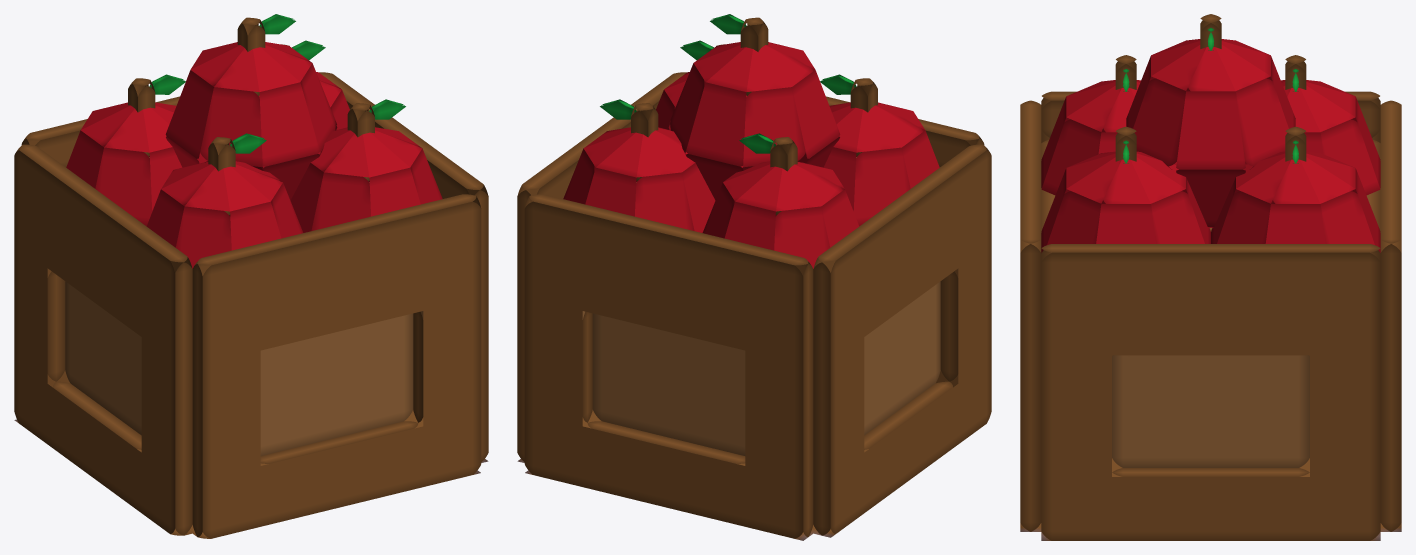
The model's file is Delivery 3.fbx.
3 renders of one model, left to right at view 1: azimuth 30°, elevation 25°; view 2: azimuth 150°, elevation 25°; view 3: azimuth 270°, elevation 25°, orthographic. The views are drawn at different scales.
Parts seen in each view (by area): view 1: cuboid, sphere_4, sphere_2, sphere_3, sphere_1, cuboid_5, cuboid_4, cuboid_3, cuboid_2, sphere; view 2: cuboid, sphere_4, sphere_1, sphere, sphere_2, cuboid_5, cuboid_1, cuboid_2, cuboid_3, sphere_3; view 3: cuboid, sphere_4, sphere_3, sphere, sphere_1, sphere_2, cuboid_5, cuboid_1, cuboid_4, cuboid_2, cuboid_3.
Part boxes in pixels (box(x1,y1,x2,y2)): cuboid: box(14, 72, 488, 538); sphere_4: box(165, 42, 337, 216); sphere_2: box(146, 161, 303, 268); sphere_3: box(290, 127, 442, 232); sphere_1: box(66, 102, 207, 226); cuboid_5: box(237, 14, 295, 95); cuboid_4: box(347, 99, 405, 181); cuboid_3: box(208, 133, 266, 215); cuboid_2: box(128, 74, 185, 156); sphere: box(259, 72, 349, 167); cuboid: box(517, 72, 991, 540); sphere_4: box(668, 42, 840, 216); sphere_1: box(702, 161, 859, 268); sphere: box(563, 127, 715, 232); sphere_2: box(798, 102, 939, 226); cuboid_5: box(710, 14, 768, 95); cuboid_1: box(600, 99, 658, 181); cuboid_2: box(739, 133, 797, 215); cuboid_3: box(820, 74, 877, 156); sphere_3: box(656, 72, 746, 167); cuboid: box(1020, 91, 1401, 540); sphere_4: box(1126, 39, 1295, 227); sphere_3: box(1041, 151, 1210, 252); sphere: box(1211, 151, 1380, 252); sphere_1: box(1245, 80, 1380, 195); sphere_2: box(1041, 80, 1176, 195); cuboid_5: box(1200, 14, 1221, 50); cuboid_1: box(1285, 126, 1306, 163); cuboid_4: box(1115, 126, 1136, 163); cuboid_2: box(1285, 55, 1306, 91); cuboid_3: box(1115, 55, 1136, 91).
Bounding box in the file's own units: 112 × 144 × 112.
1 material, 1 textured.
